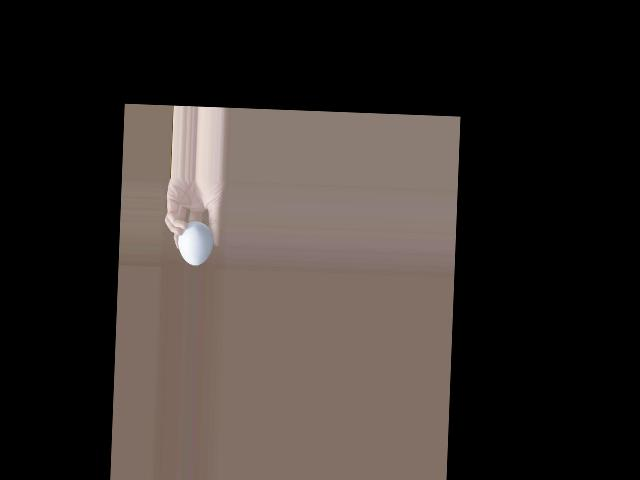egg: (176, 221, 213, 266)
